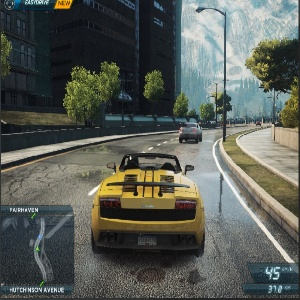lamp post: (196, 5, 235, 146), (211, 77, 231, 125)
tree: (248, 40, 300, 125), (62, 65, 121, 132), (141, 68, 164, 131), (1, 23, 9, 133), (171, 92, 189, 122), (201, 102, 216, 129)
vehicle: (179, 117, 203, 145), (252, 119, 263, 127)
